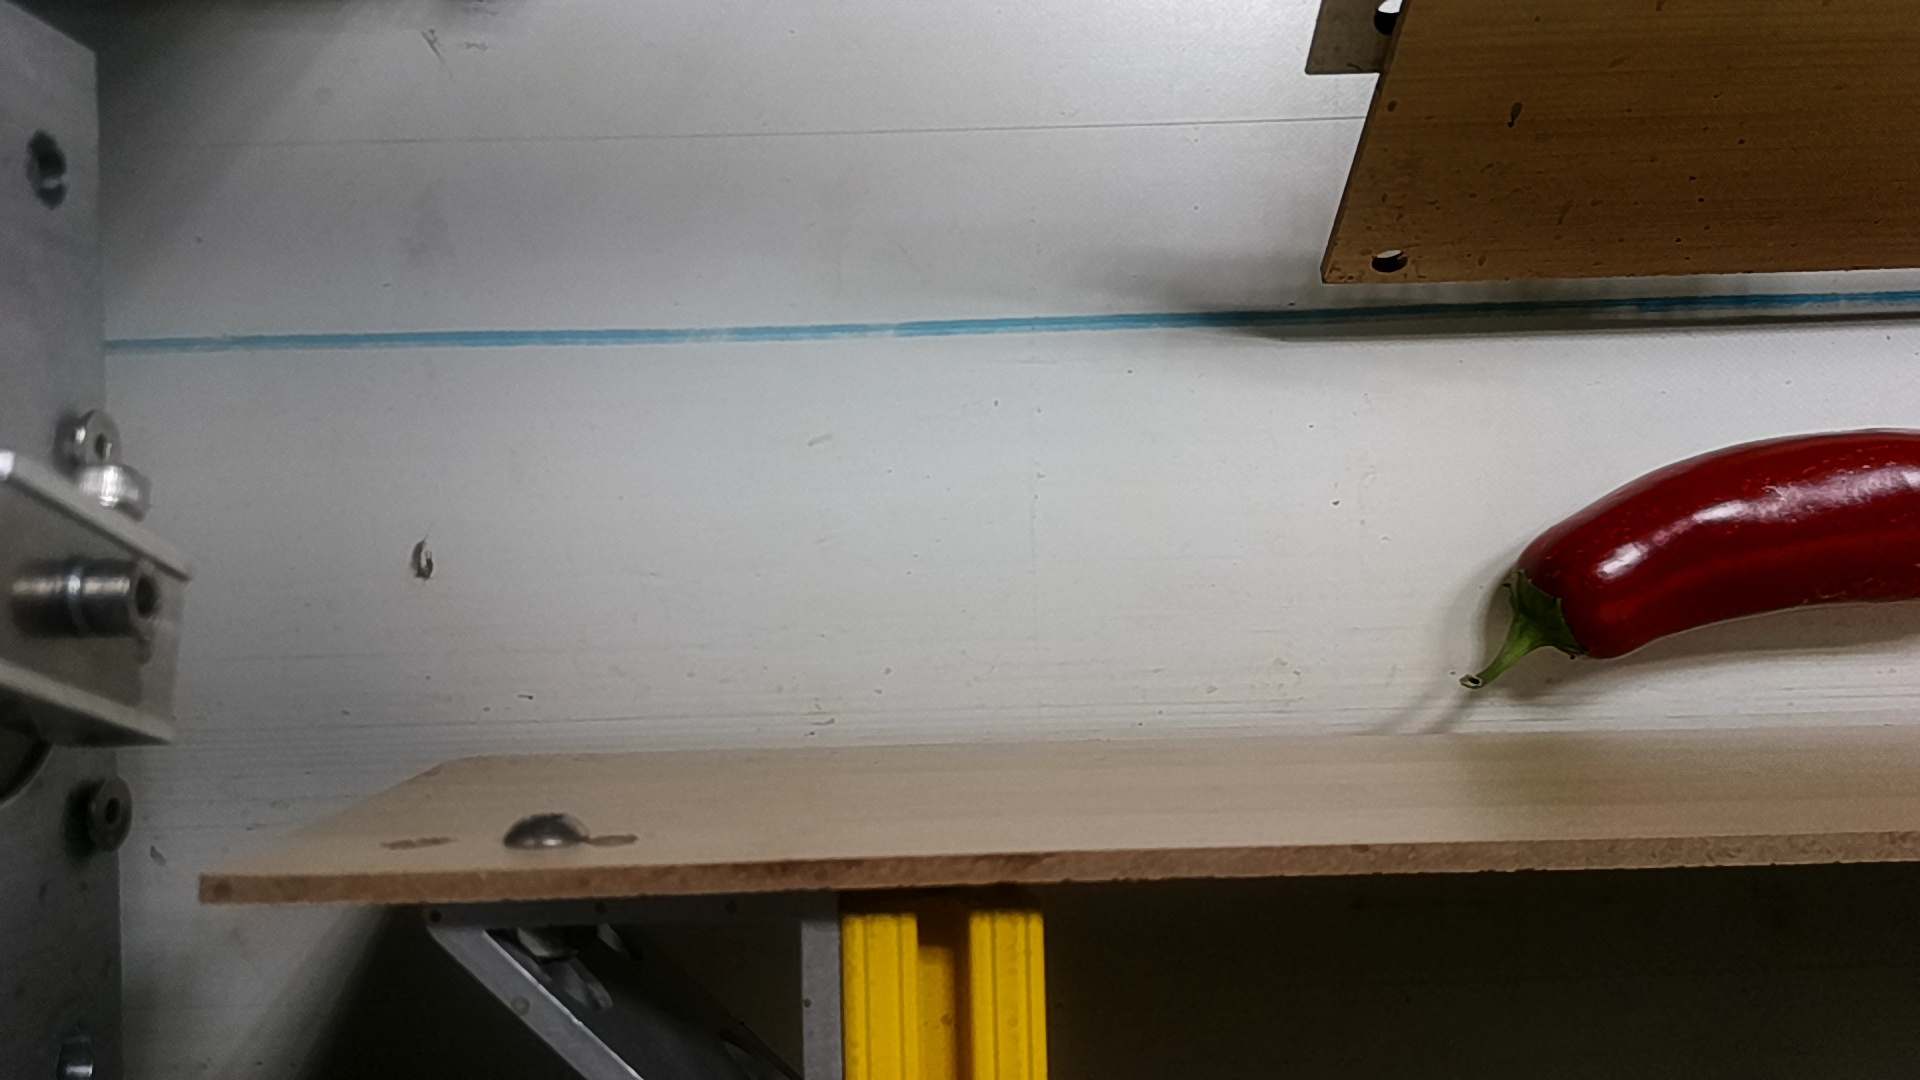Cut Point: (1495, 539, 1627, 669)
